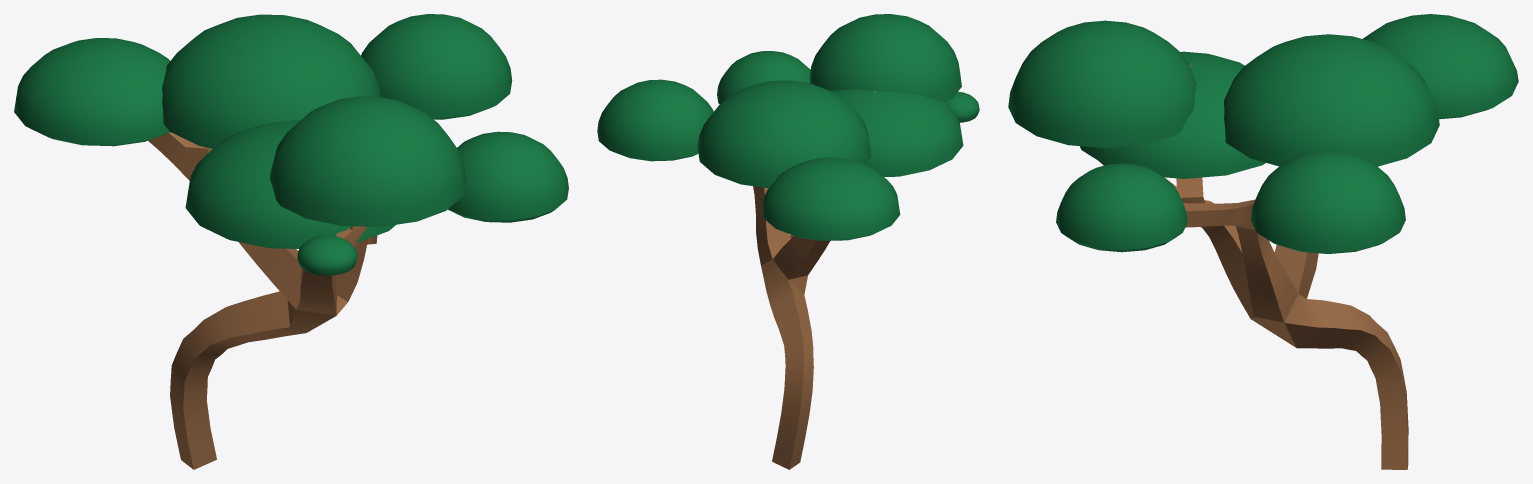
Rendered from ArbolVerde.fbx.
3 views of the same model, side by side, from view 1: azimuth 30°, elevation 25°; view 2: azimuth 150°, elevation 25°; view 3: azimuth 270°, elevation 25° (orthographic). The views are drawn at different scales.
Parts seen in each view (by area): view 1: Arbol_1.002; view 2: Arbol_1.002; view 3: Arbol_1.002.
Part boxes in pixels (<box>): Arbol_1.002: <box>14,14,568,469</box>; Arbol_1.002: <box>597,14,979,469</box>; Arbol_1.002: <box>1008,14,1518,469</box>.
Size of the model in its own units: 9.05 by 9.38 by 9.69.
1 material, 1 textured.
